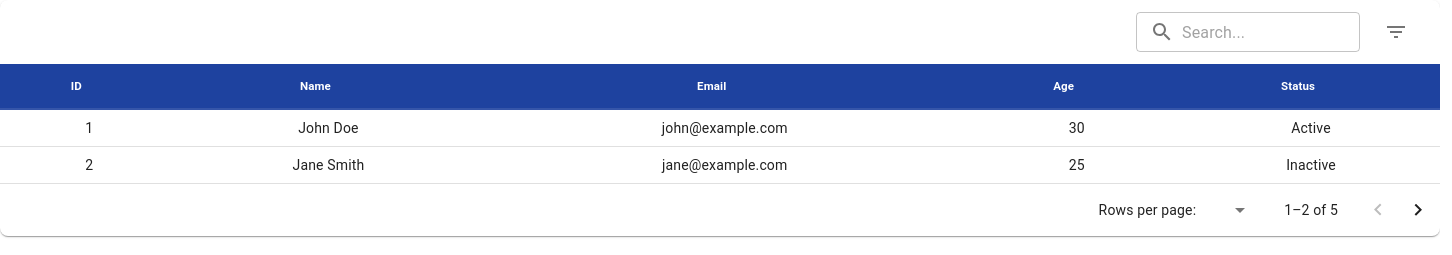
Test: DataTable Component › changes page when pagination controls are used
The width and height of the screenshot is (1452, 255).
Expected: the text "John Doe" is shown, [179,110,478,147]
Expected: the text "Jane Smith" is shown, [179,147,478,184]
Go to next page
Click the button named "next page". click: (1418, 210)
box: [1398,190,1438,230]
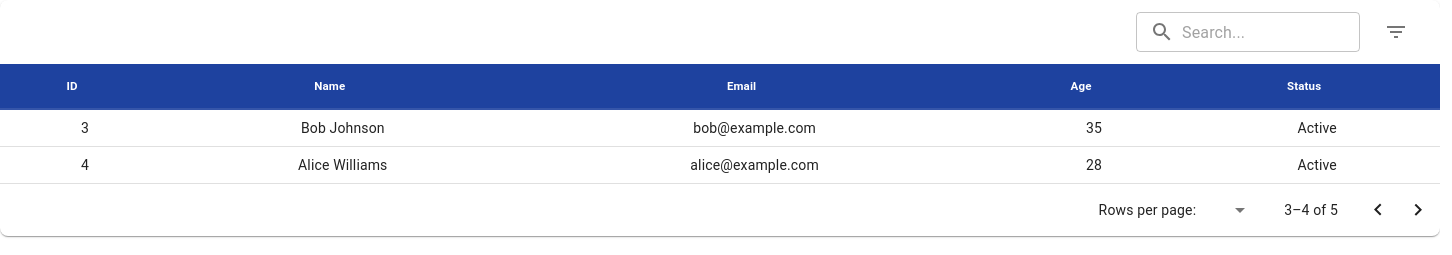
Expected: the text "Bob Johnson" is shown, [170,110,515,147]
Expected: the checkbox "John Doe" is gone
